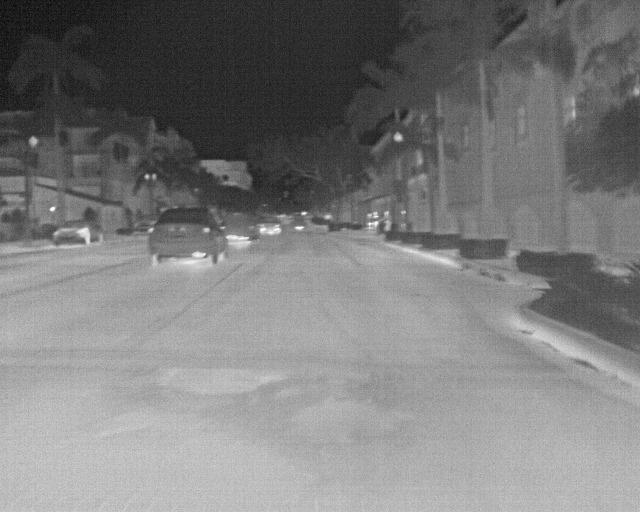car: (148, 206, 227, 265), (52, 220, 103, 247), (222, 211, 257, 243), (257, 217, 281, 237), (132, 220, 152, 235), (292, 216, 307, 231)
